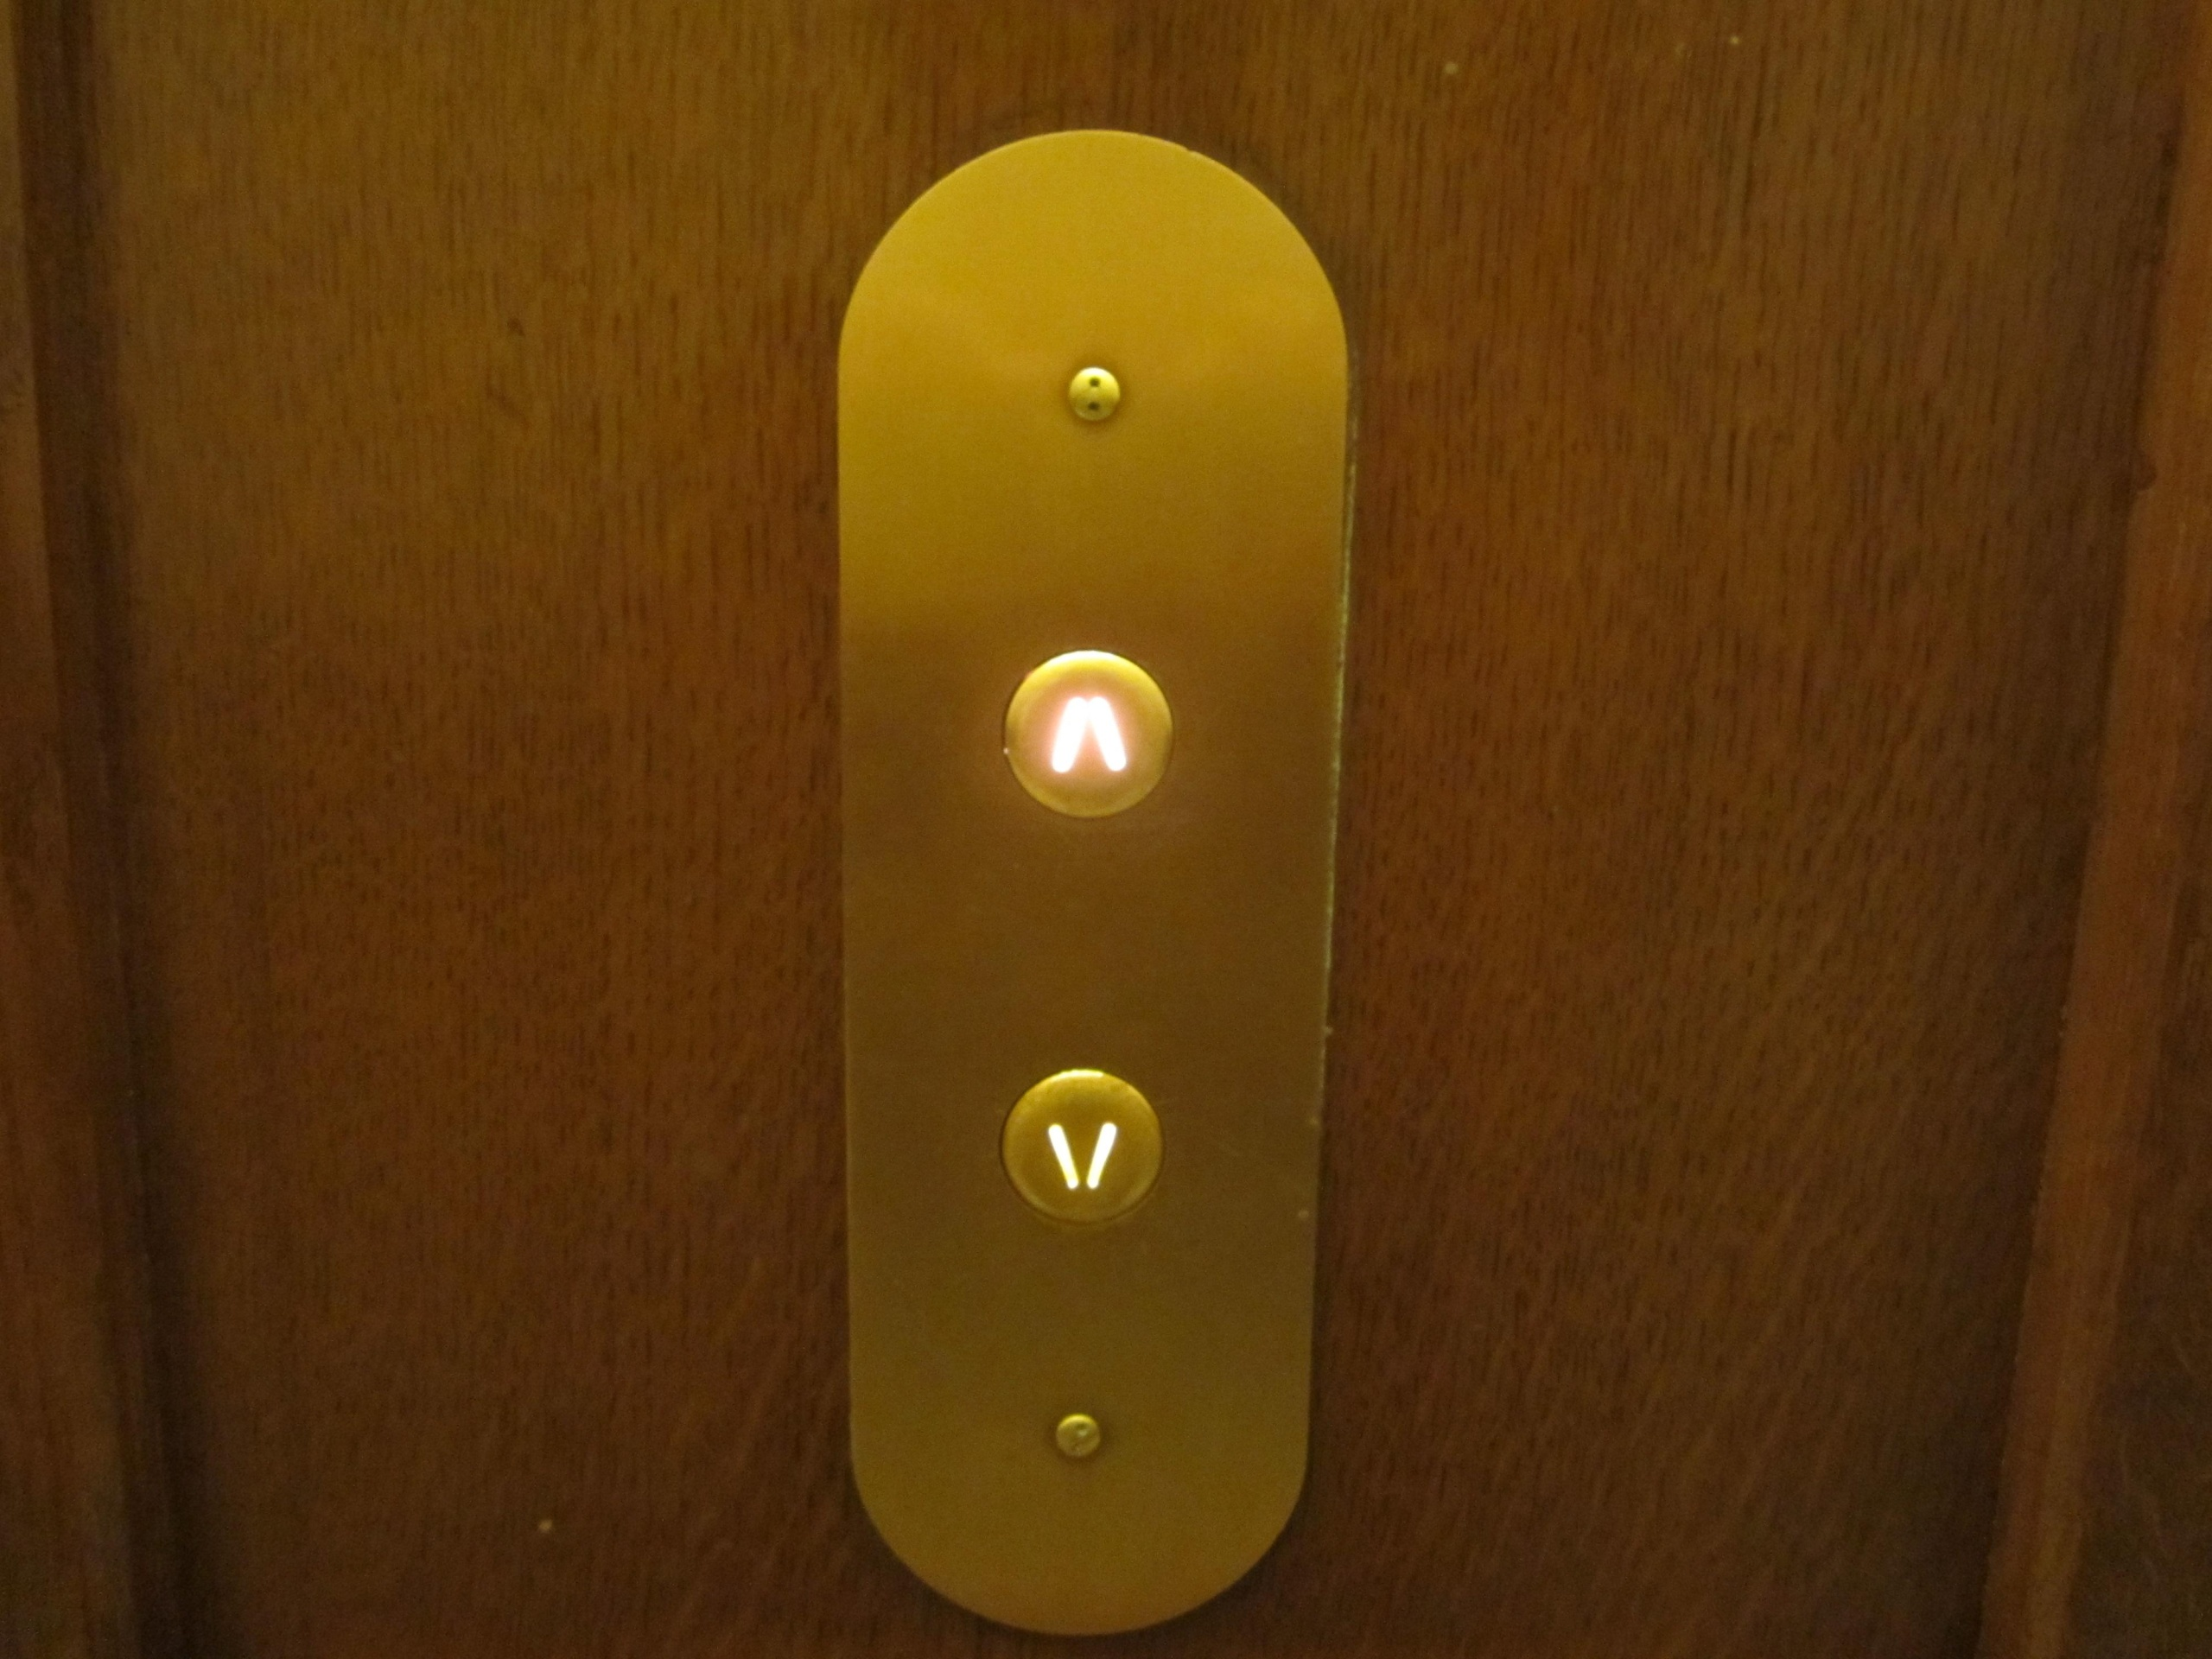down: (984, 1058, 1179, 1246)
up: (995, 634, 1184, 829)
